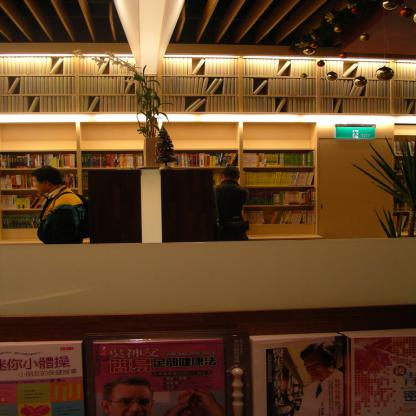book: (250, 328, 416, 416), (5, 336, 91, 412), (159, 56, 238, 76), (161, 76, 240, 95), (78, 76, 158, 94), (0, 77, 75, 96), (0, 56, 74, 75), (241, 57, 315, 76), (321, 78, 390, 98), (318, 59, 388, 78), (161, 96, 239, 113), (242, 78, 315, 96), (244, 188, 316, 206), (78, 95, 154, 112), (320, 97, 392, 114), (0, 97, 76, 113), (0, 152, 76, 168), (167, 152, 239, 168), (77, 56, 136, 75), (242, 97, 315, 112), (242, 152, 315, 167), (244, 172, 314, 187), (80, 152, 144, 168), (267, 210, 315, 224), (3, 214, 44, 230), (0, 173, 35, 189), (0, 195, 31, 209), (390, 63, 414, 79), (394, 81, 416, 98), (394, 98, 415, 115), (391, 142, 416, 156), (244, 211, 266, 226), (28, 195, 50, 209), (392, 194, 410, 210), (58, 174, 78, 188), (394, 215, 408, 232), (212, 174, 226, 188), (392, 159, 404, 174), (80, 171, 90, 188)
